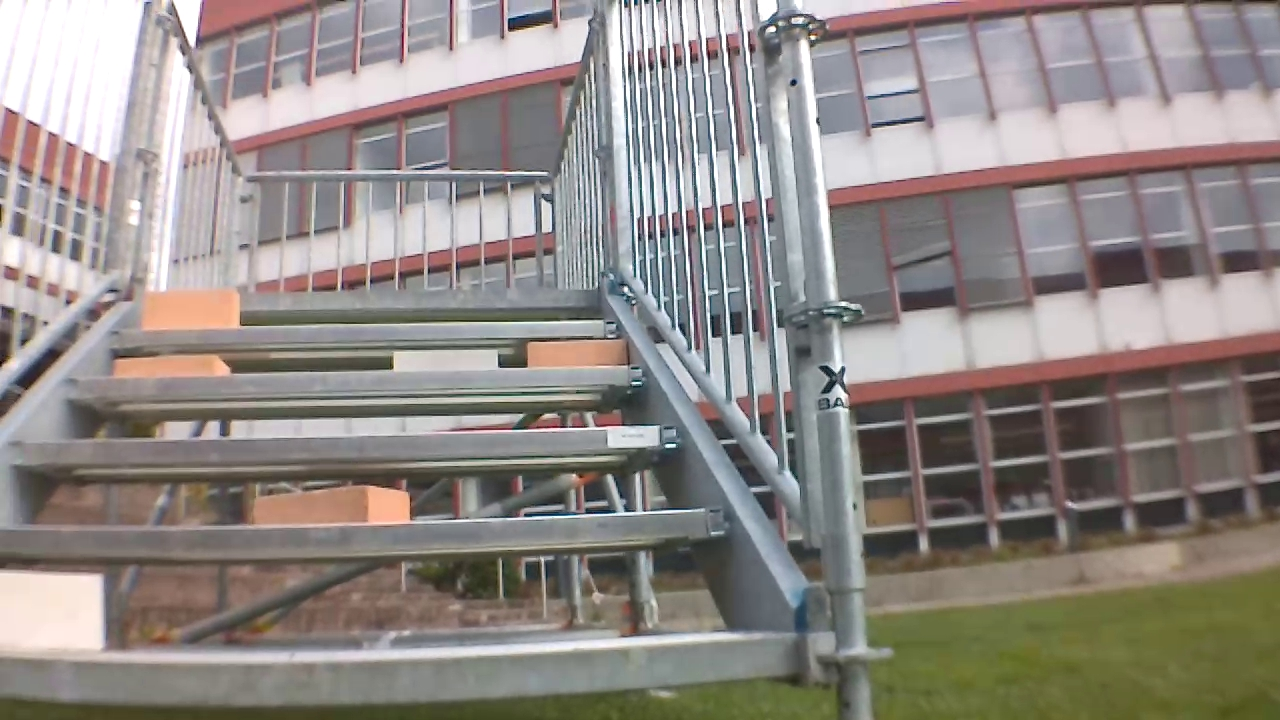brick: (1, 572, 102, 648), (255, 486, 409, 524), (143, 290, 239, 327), (528, 340, 625, 366), (115, 356, 229, 374), (393, 350, 498, 369)
edge: (1, 636, 806, 705), (0, 509, 734, 557), (11, 425, 684, 462), (64, 366, 645, 396), (110, 320, 622, 344), (130, 290, 598, 309)
stairs: (5, 3, 887, 716)
steps: (1, 283, 817, 714)
